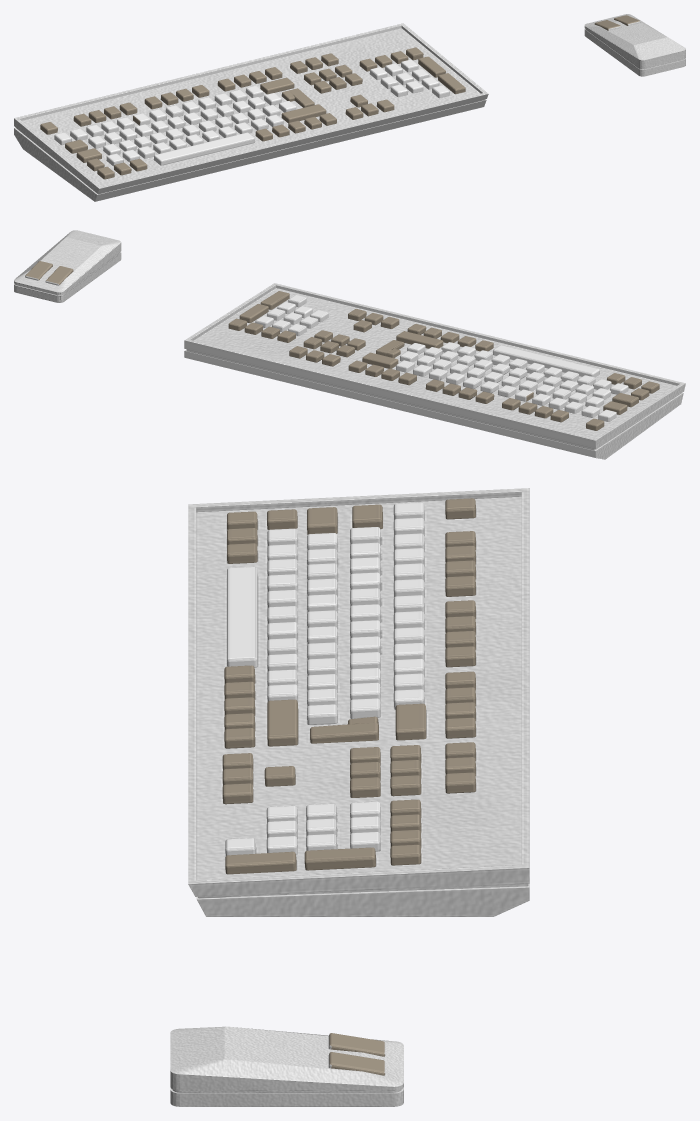
File: keyboard_and_mouse.glb
3 views of the same model, one above another, from view 1: azimuth 30°, elevation 25°; view 2: azimuth 150°, elevation 25°; view 3: azimuth 270°, elevation 25° (orthographic). The views are drawn at different scales.
Visible parts, largest first — view 1: Plano, Cubo; view 2: Plano, Cubo; view 3: Plano, Cubo.
Part boxes in pixels (x1=…): Plano: x1=14, y1=23, x2=488, y2=201; Cubo: x1=584, y1=14, x2=685, y2=76; Plano: x1=184, y1=283, x2=685, y2=459; Cubo: x1=14, y1=230, x2=121, y2=302; Plano: x1=188, y1=488, x2=529, y2=916; Cubo: x1=170, y1=1026, x2=403, y2=1106.
Size of the model in its own units: 0.6179 by 0.0261 by 0.1648.
Materials: 2 (2 with a texture image).
